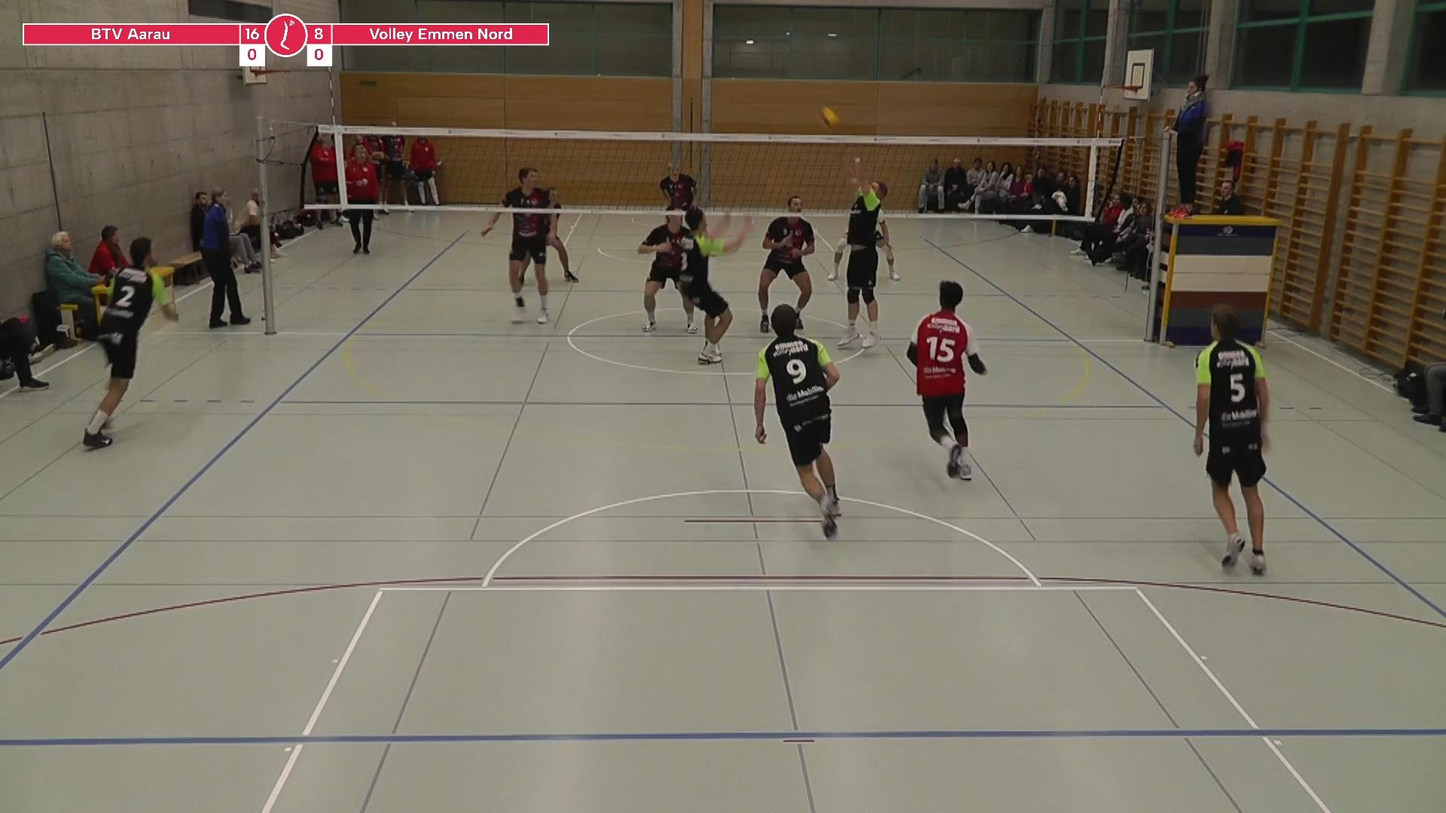Player: (1194, 304, 1268, 574), (84, 237, 178, 449), (754, 304, 839, 538), (907, 280, 987, 480), (679, 208, 747, 364), (502, 167, 557, 324), (758, 196, 815, 332), (639, 215, 697, 333), (548, 215, 578, 282), (660, 164, 697, 211), (875, 216, 901, 281)
Set: (825, 157, 898, 355)
ball: (818, 104, 840, 131)
